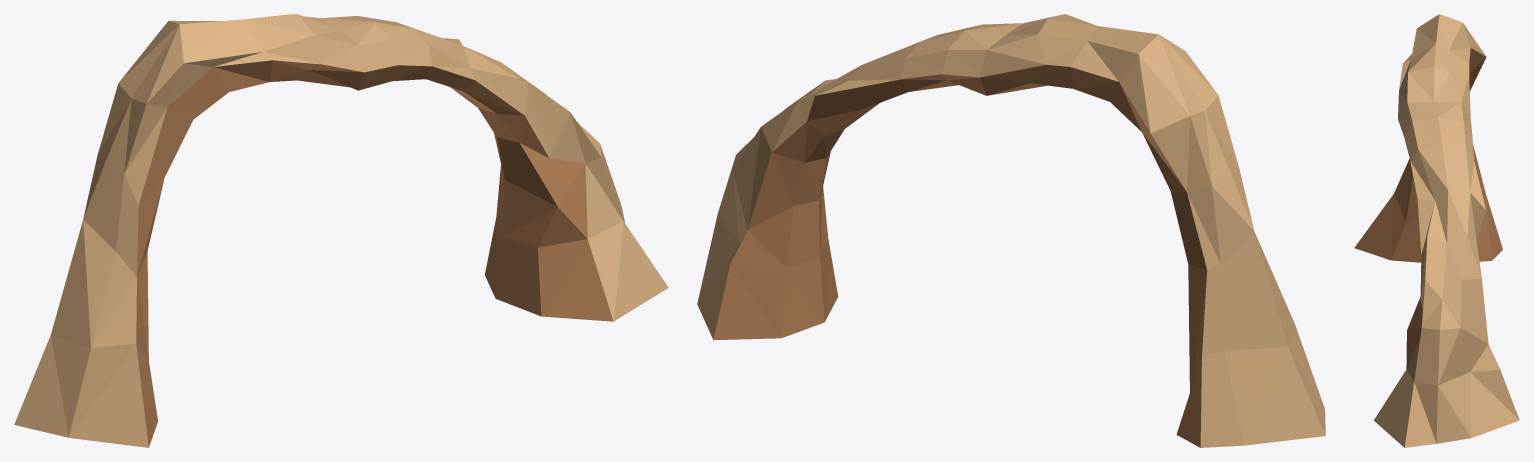
File: Rock_19.fbx
3 renders of one model, left to right at view 1: azimuth 30°, elevation 25°; view 2: azimuth 150°, elevation 25°; view 3: azimuth 270°, elevation 25°, orthographic. The views are drawn at different scales.
Visible parts, largest first — view 1: Rock_19; view 2: Rock_19; view 3: Rock_19.
Part boxes in pixels (box(x1,y1,x2,y2)): Rock_19: box(14, 14, 668, 447); Rock_19: box(697, 14, 1325, 447); Rock_19: box(1354, 14, 1519, 447).
Bounding box in the file's own units: 1143 × 351 × 622.
